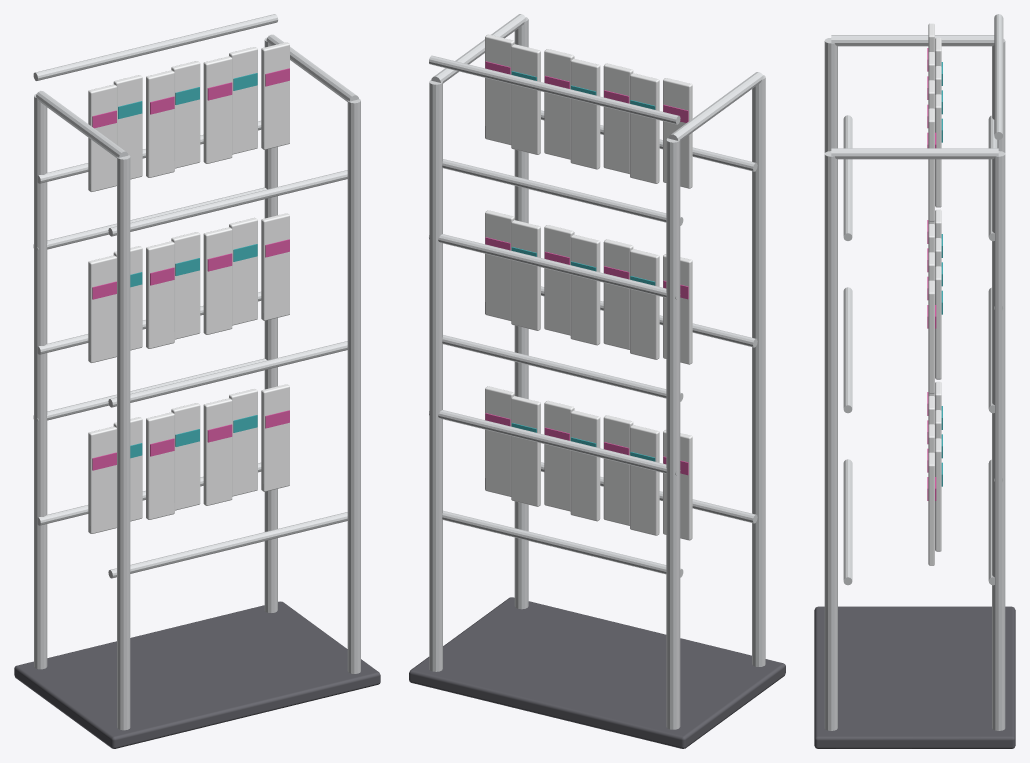
File: tattoo-and-piercing-studio-sterile-pouch-rack-b2530e82__34537.glb
The picture shows the model from 3 angles, left to right: view 1: azimuth 30°, elevation 25°; view 2: azimuth 150°, elevation 25°; view 3: azimuth 270°, elevation 25°; orthographic projection. The views are drawn at different scales.
Visible parts, largest first — view 1: sterile-pouch-rack; view 2: sterile-pouch-rack; view 3: sterile-pouch-rack.
Boxes of the visible parts, left/top/right/bottom form: sterile-pouch-rack: left=14, top=14, right=380, bottom=748; sterile-pouch-rack: left=409, top=14, right=785, bottom=748; sterile-pouch-rack: left=814, top=14, right=1015, bottom=748.
Bounding box in the file's own units: 0.56 × 1.21 × 0.36.
